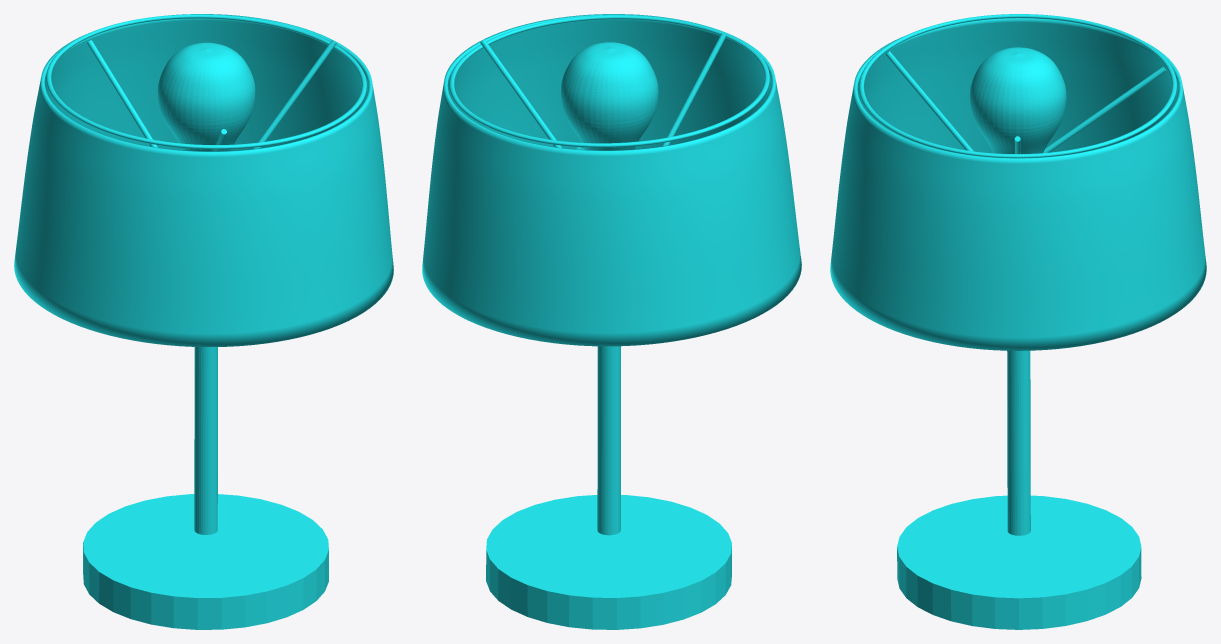
The model's file is lamp.glb.
3 views of the same model, side by side, from view 1: azimuth 30°, elevation 25°; view 2: azimuth 150°, elevation 25°; view 3: azimuth 270°, elevation 25° (orthographic).
Visible parts, largest first — view 1: cylinder shade_4, lamp base_1, bulb_12, lamp post_3, lamp rack_13, lamp rack_11, lamp rack_6; view 2: cylinder shade_4, lamp base_1, bulb_12, lamp post_3, lamp rack_13, lamp rack_11, lamp rack_8; view 3: cylinder shade_4, lamp base_1, bulb_12, lamp post_3, lamp rack_13, lamp rack_6, lamp rack_8.
Boxes of the visible parts, bbox=[...] form: cylinder shade_4: bbox=[14, 14, 393, 346]; lamp base_1: bbox=[83, 494, 328, 629]; bulb_12: bbox=[157, 42, 255, 151]; lamp post_3: bbox=[194, 347, 217, 534]; lamp rack_13: bbox=[46, 14, 366, 149]; lamp rack_11: bbox=[253, 40, 336, 148]; lamp rack_6: bbox=[87, 40, 157, 147]; cylinder shade_4: bbox=[422, 14, 801, 346]; lamp base_1: bbox=[486, 495, 731, 629]; bulb_12: bbox=[561, 42, 658, 150]; lamp post_3: bbox=[597, 346, 620, 535]; lamp rack_13: bbox=[449, 15, 769, 147]; lamp rack_11: bbox=[480, 39, 561, 147]; lamp rack_8: bbox=[662, 33, 726, 146]; cylinder shade_4: bbox=[830, 18, 1206, 350]; lamp base_1: bbox=[897, 495, 1141, 629]; bulb_12: bbox=[969, 47, 1066, 153]; lamp post_3: bbox=[1007, 350, 1030, 535]; lamp rack_13: bbox=[859, 14, 1176, 157]; lamp rack_6: bbox=[1043, 67, 1165, 152]; lamp rack_8: bbox=[885, 50, 973, 151].
Size of the model in its own units: 0.6473 by 0.9955 by 0.6473.
